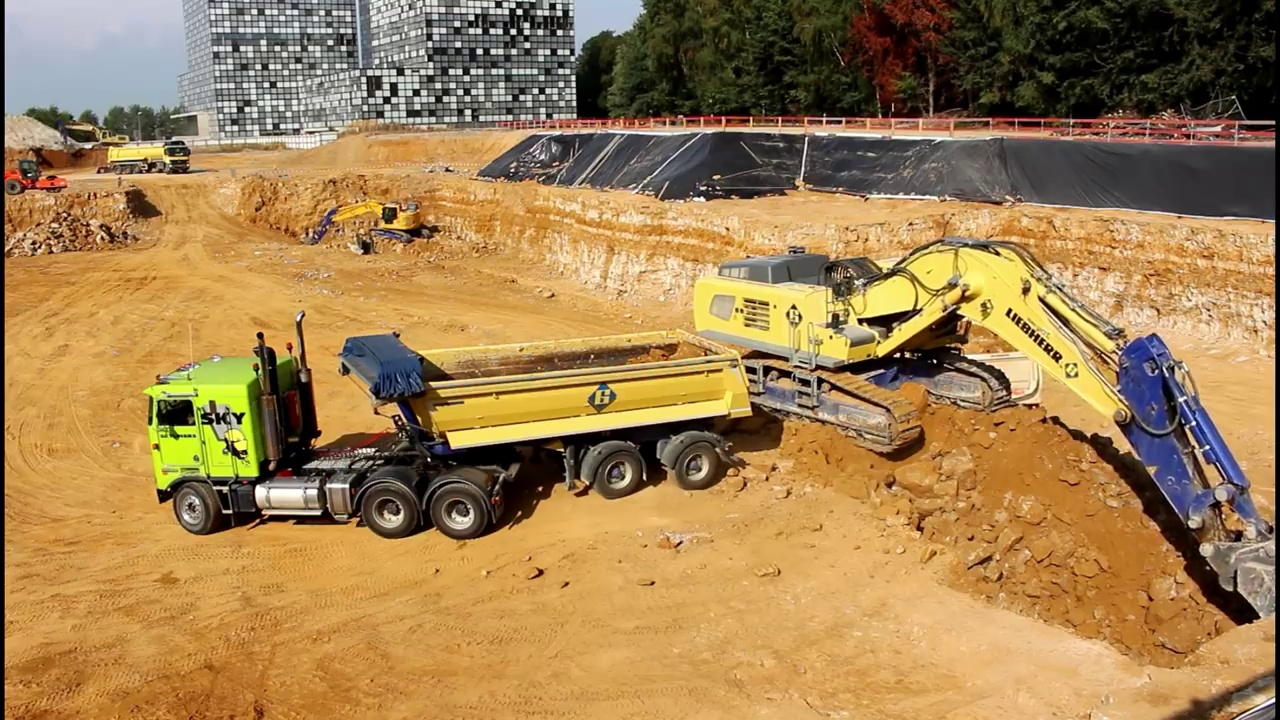compactor: (2, 157, 71, 202)
excavator: (688, 230, 1280, 621), (299, 195, 435, 254), (60, 113, 133, 152)
truck: (130, 305, 764, 545), (895, 245, 1053, 458), (102, 138, 194, 179)
